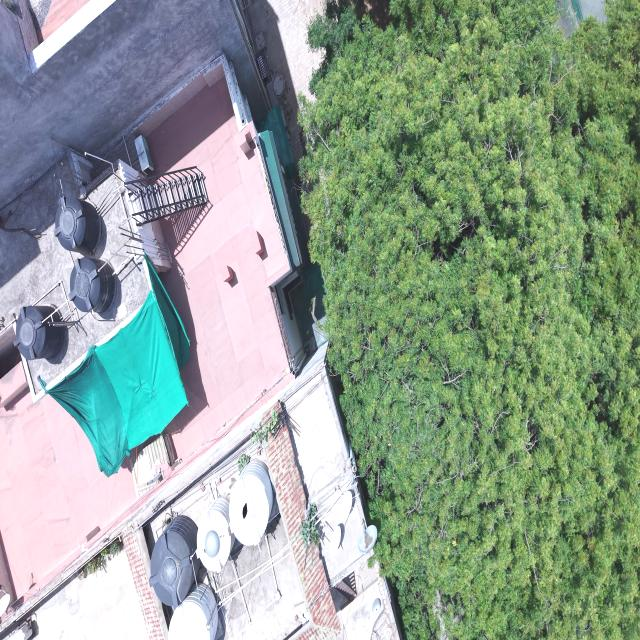ROOFTOP_BUILDING: (0, 1, 398, 639), (31, 1, 291, 463), (6, 340, 399, 639), (198, 344, 398, 639), (0, 0, 265, 204), (164, 100, 288, 462), (0, 160, 149, 398), (283, 363, 363, 580), (33, 552, 147, 639)
VEGETATION_TREE: (303, 0, 639, 639), (78, 537, 122, 578), (300, 503, 319, 548)
